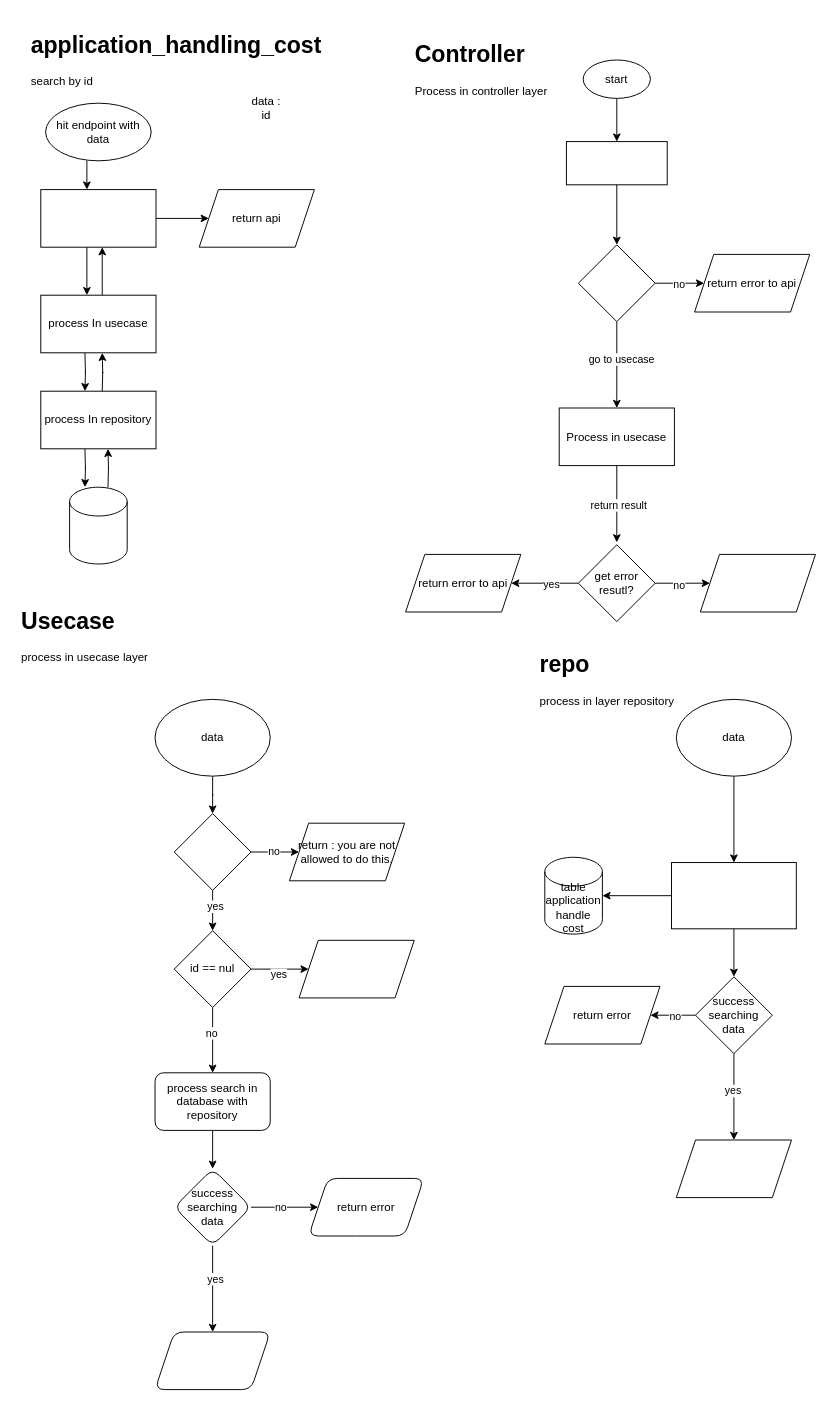
This 832x1406 diagram has some shape labels left out. The shapes that lost their labels are listed below. From the top down, each one's centre as x and y in pixels, then its label:
At pixel 616 163: "Accepting data in request body".
At pixel 98 218: "process In controller".
At pixel 616 283: "success accept data".
At pixel 98 525: "update in database".
At pixel 757 582: "return data to API".
At pixel 212 851: "GetRole() == admin".
At pixel 733 895: "do query select from table application_handle_cost by id".
At pixel 356 968: "id required".
At pixel 733 1168: "retun data".
At pixel 212 1360: "returm data".
